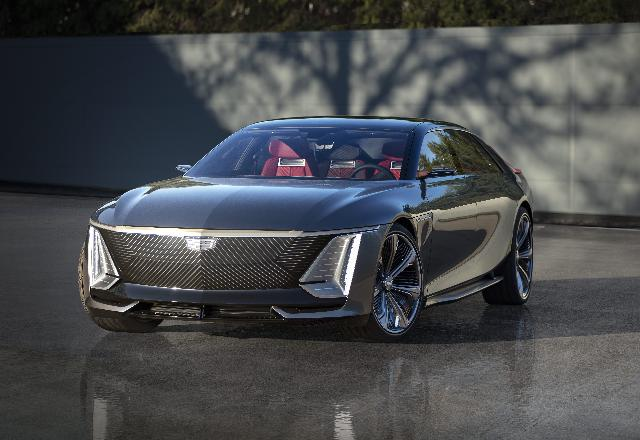cadillac: (78, 116, 534, 340)
